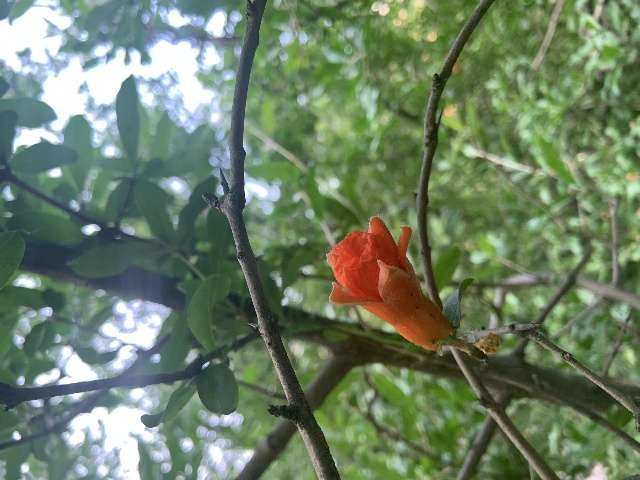flower: (325, 214, 450, 349)
